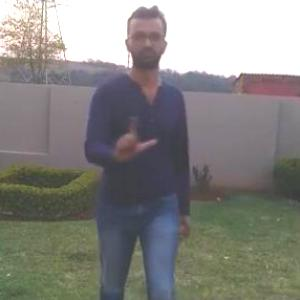land_hand: (112, 113, 158, 163)
